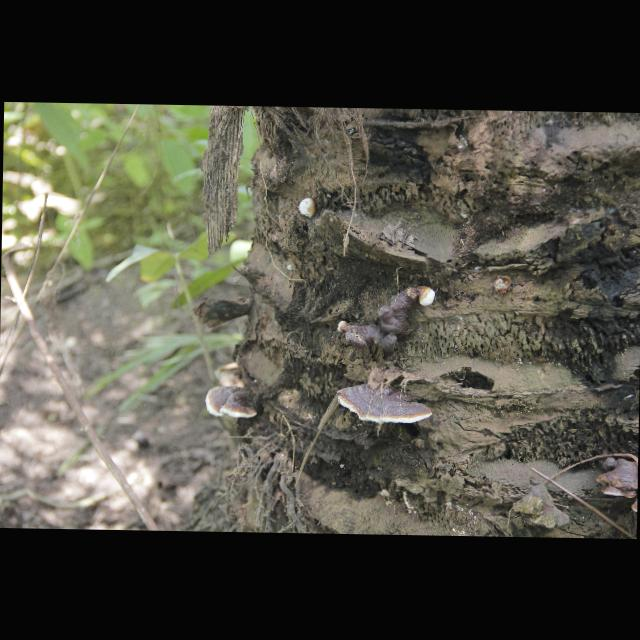ganoderma: (345, 287, 417, 358), (336, 380, 434, 426), (596, 457, 639, 499), (205, 387, 259, 420)
primordium: (418, 287, 436, 308), (299, 198, 317, 218), (338, 322, 348, 334), (288, 265, 293, 272)
